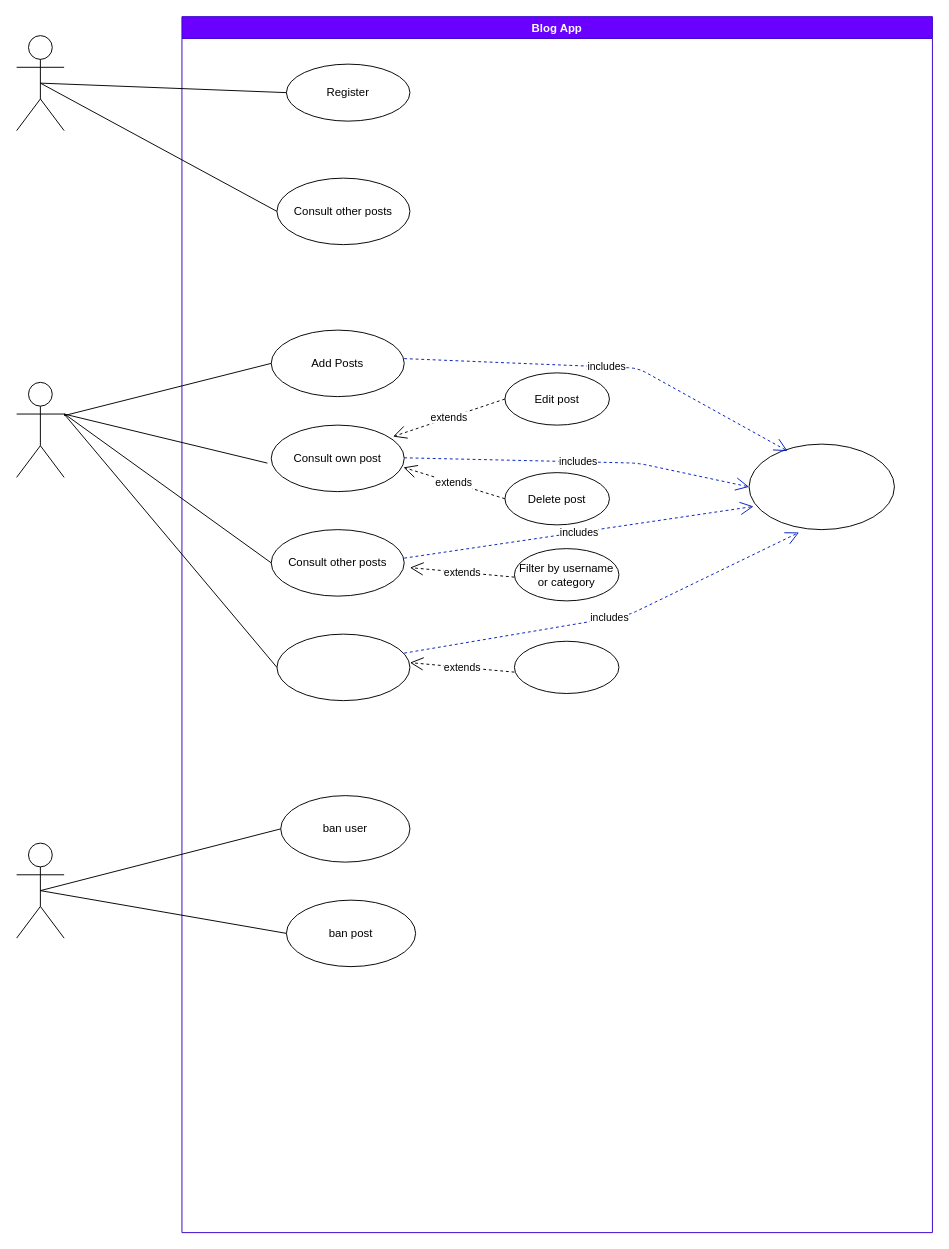
This 949x1249 diagram has some shape labels left out. The shapes that lost their labels are listed below. From the top down, each one's centre as x and y in pixels, then its label:
At (x=40, y=83): "visitor".
At (x=40, y=429): "user".
At (x=821, y=486): "Login".
At (x=343, y=667): "Consult profile page".
At (x=566, y=667): "Modify user's information".
At (x=40, y=890): "admin".
